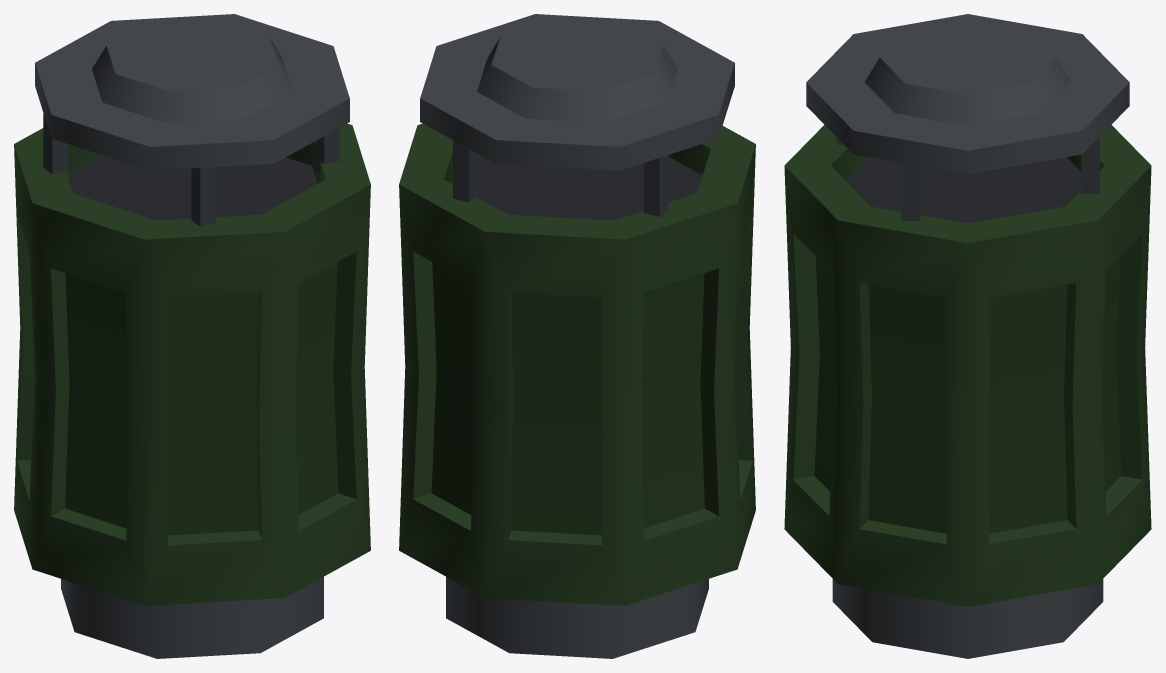
File: Trash_Bin_4.fbx
The picture shows the model from 3 angles, left to right: view 1: azimuth 30°, elevation 25°; view 2: azimuth 150°, elevation 25°; view 3: azimuth 270°, elevation 25°; orthographic projection.
Parts seen in each view (by area): view 1: Trash_Bin_4; view 2: Trash_Bin_4; view 3: Trash_Bin_4.
Boxes of the visible parts, bbox=[...] form: Trash_Bin_4: bbox=[14, 14, 370, 658]; Trash_Bin_4: bbox=[399, 14, 755, 658]; Trash_Bin_4: bbox=[784, 14, 1151, 658].
Bounding box in the file's own units: 63.62 × 104 × 63.62.
